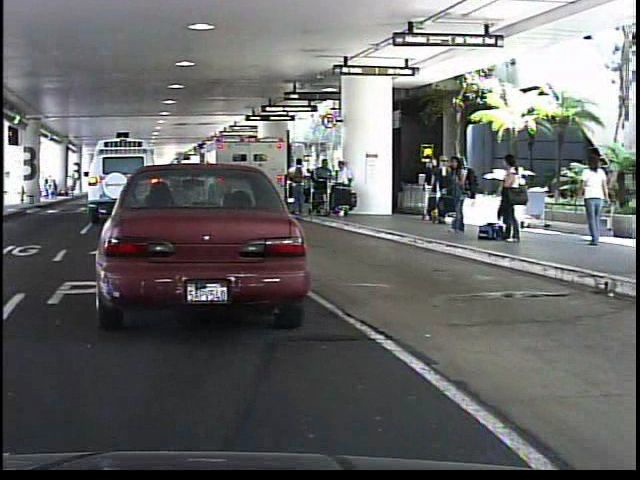person: (574, 153, 612, 248), (492, 150, 521, 245)
